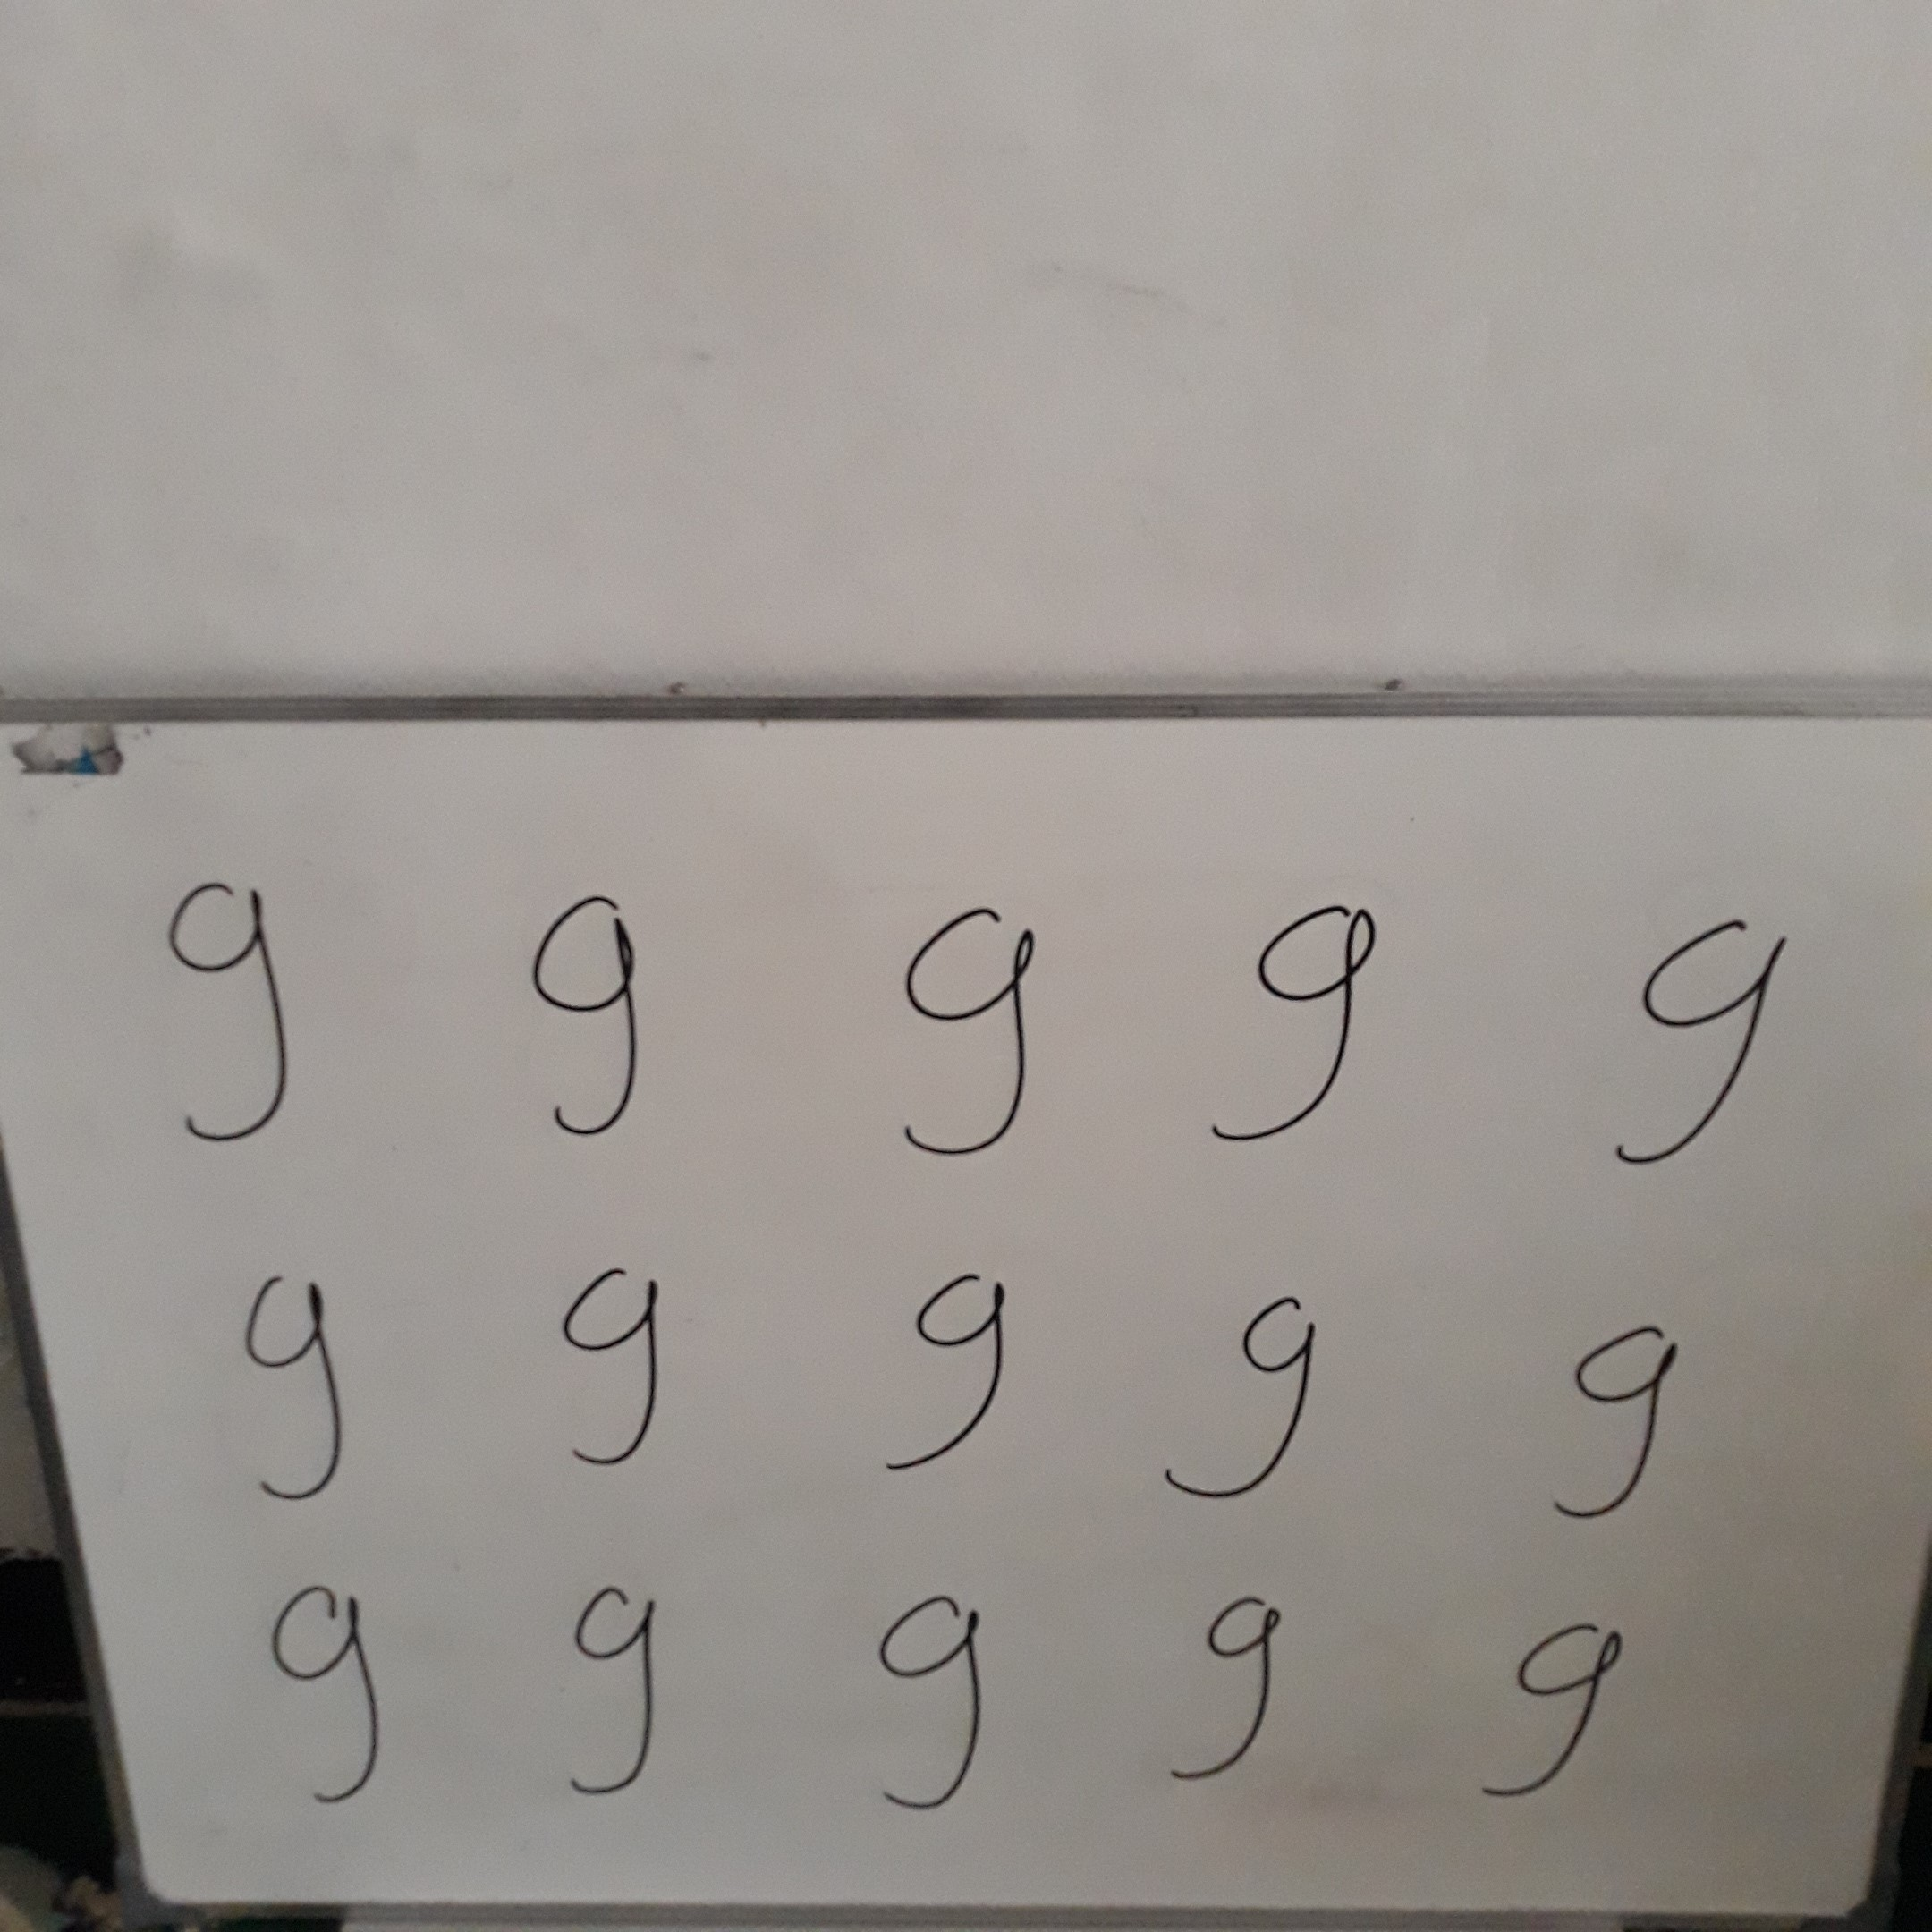num9: (839, 894, 1085, 1199), (1190, 869, 1411, 1182), (129, 856, 335, 1165), (1148, 1267, 1374, 1546), (1592, 892, 1799, 1195), (834, 1250, 1063, 1510), (1510, 1296, 1726, 1559), (1446, 1596, 1670, 1838), (507, 877, 679, 1177), (216, 1253, 392, 1521), (524, 1564, 699, 1831), (244, 1577, 438, 1814), (846, 1575, 1030, 1823), (1147, 1572, 1335, 1810), (526, 1262, 714, 1492)
